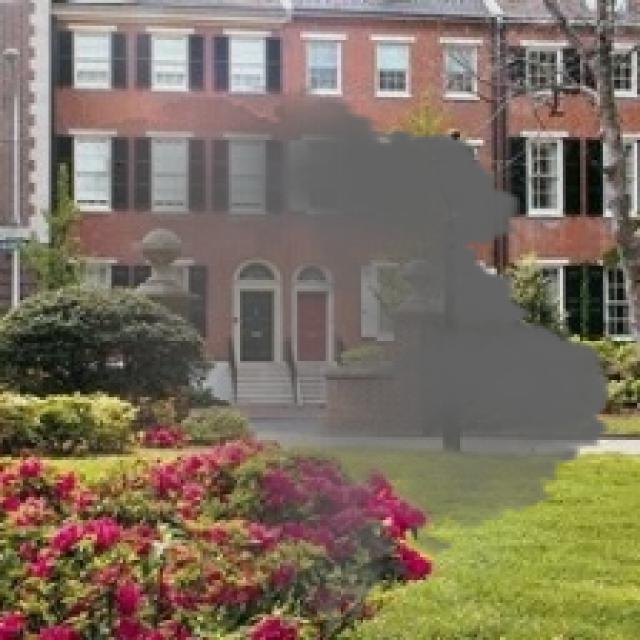smoke: (63, 86, 631, 631)
